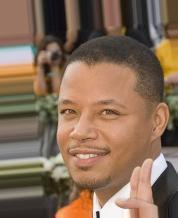face: (58, 97, 123, 167)
